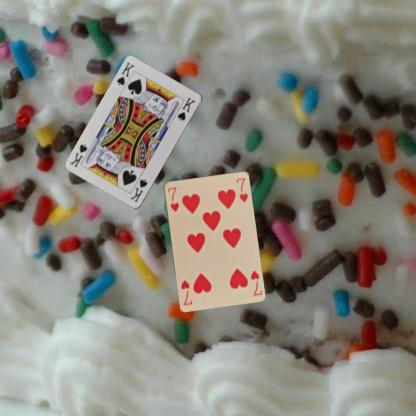7h: (165, 184, 180, 213), (248, 268, 263, 297)
Ks: (127, 177, 149, 204), (114, 60, 136, 86)
